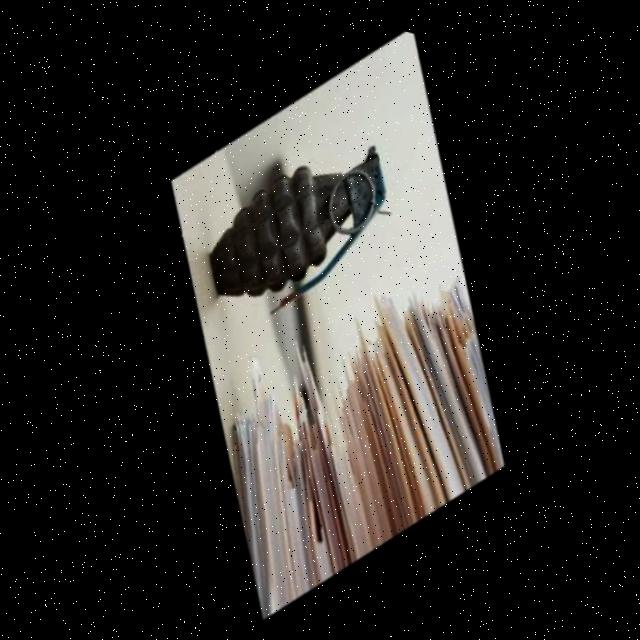grenade: (185, 75, 414, 351)
